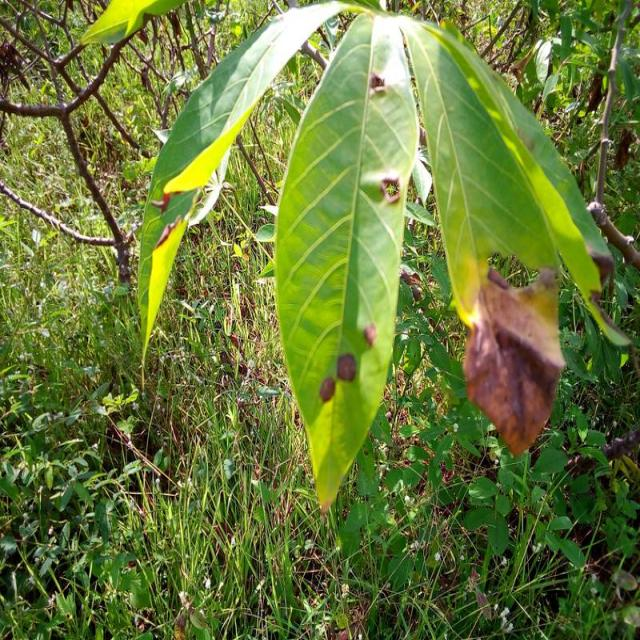cassava leaf: (135, 1, 629, 512), (395, 12, 631, 362), (273, 11, 419, 513)
